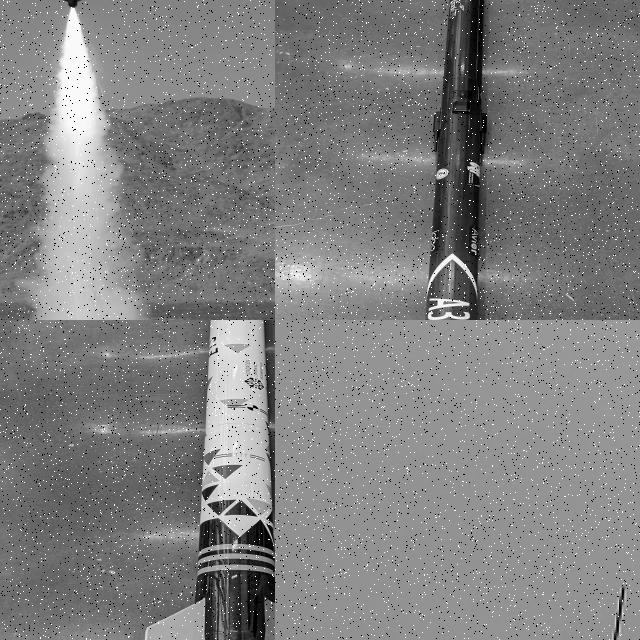Rocket: (144, 320, 275, 640), (425, 0, 487, 320), (603, 585, 626, 640)
